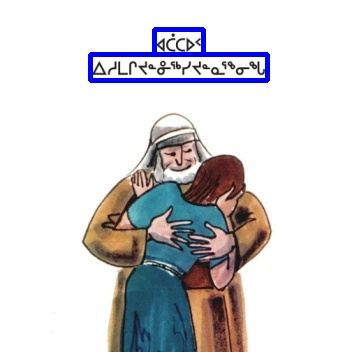inuktitut: (90, 54, 267, 80), (154, 29, 203, 54)
